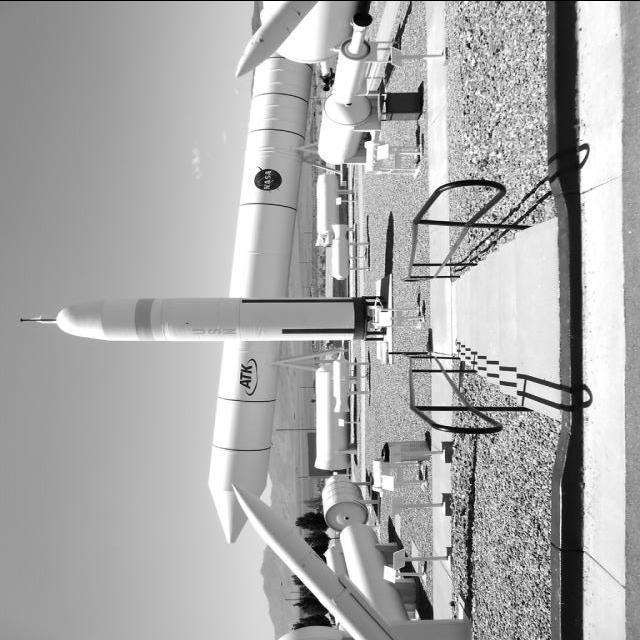missile: (205, 25, 315, 547), (227, 480, 415, 640), (18, 295, 394, 348)
